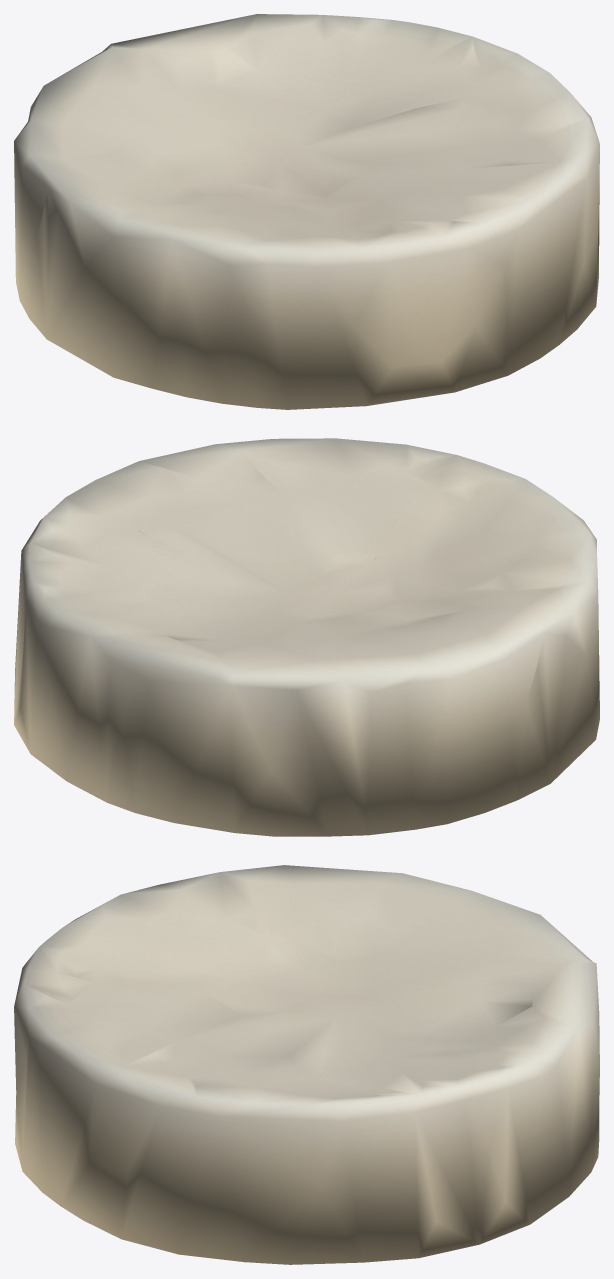
Rendered from DAIKON.obj.
The picture shows the model from 3 angles, top to bottom: view 1: azimuth 30°, elevation 25°; view 2: azimuth 150°, elevation 25°; view 3: azimuth 270°, elevation 25°; orthographic projection.
Parts seen in each view (by area): view 1: tripo_node_051d0f5c; view 2: tripo_node_051d0f5c; view 3: tripo_node_051d0f5c.
Part boxes in pixels (x1,y1,x2,y2): tripo_node_051d0f5c: [14, 14, 599, 409]; tripo_node_051d0f5c: [14, 438, 599, 836]; tripo_node_051d0f5c: [14, 865, 599, 1264].
Bounding box in the file's own units: 0.9979 × 0.2971 × 0.9997.
Materials: 1 (1 with a texture image).
